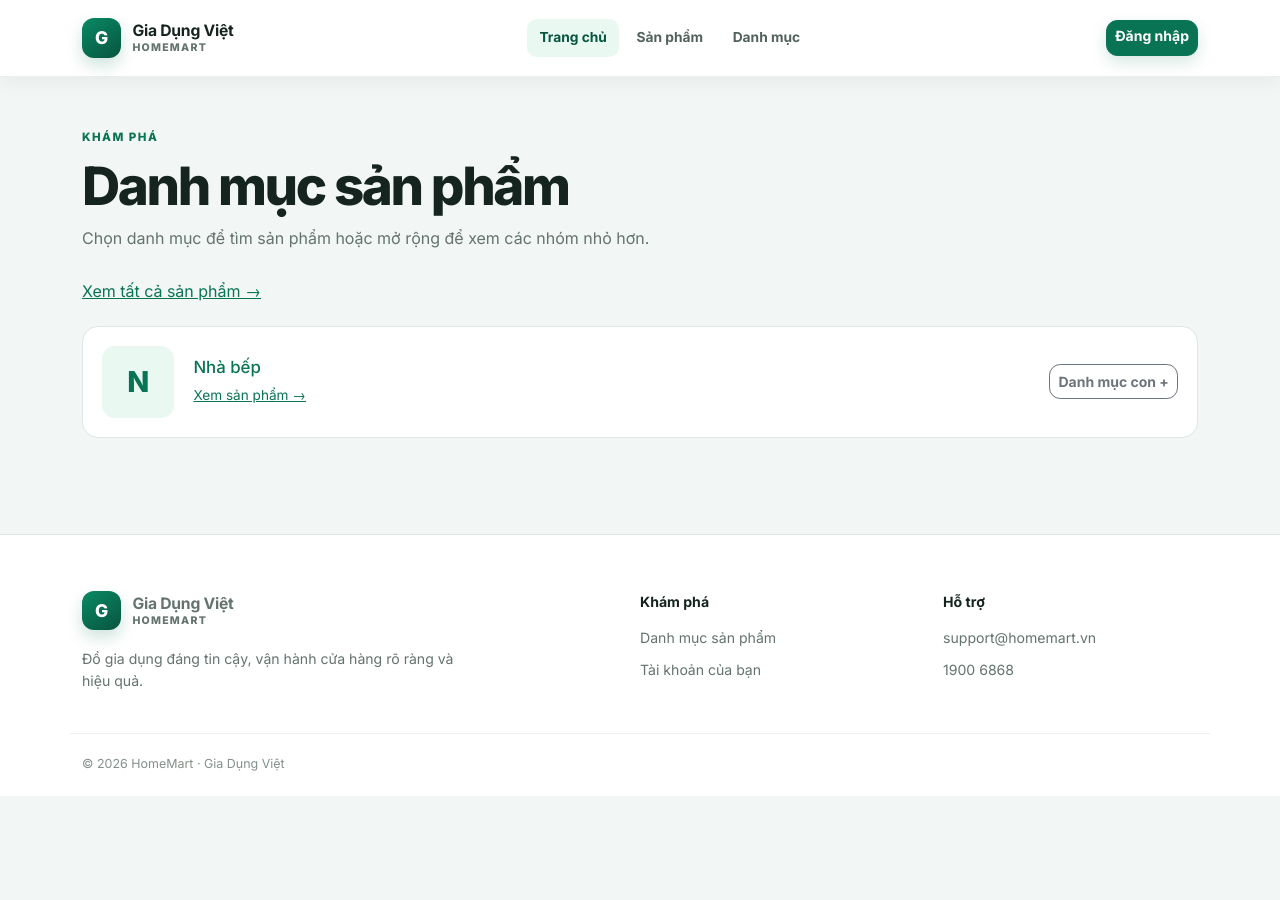
loads public roots and expands their children, linking to search by category ID
Click the button with aria-label "Mở rộng Nhà bếp". click: (1114, 382)
box: [1049, 364, 1178, 400]
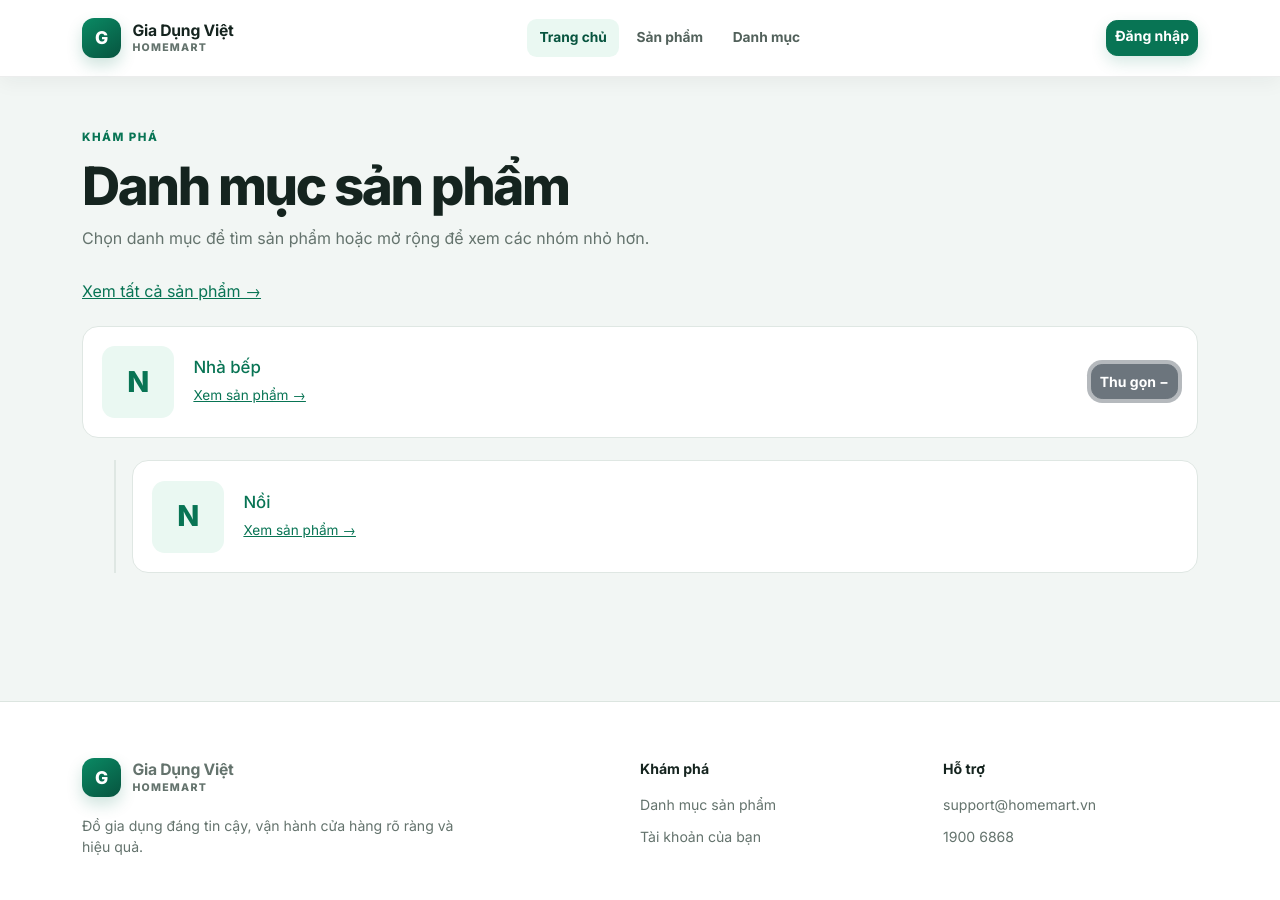
Result: the button with aria-label "Thu gọn Nhà bếp" is expanded at [1091, 364, 1178, 400]
